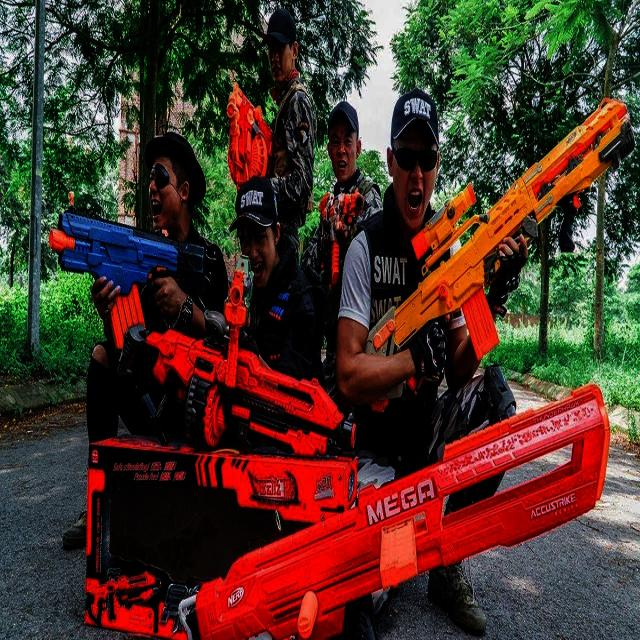Nerf gun: (180, 389, 611, 639), (358, 92, 639, 415), (110, 322, 358, 464), (44, 181, 215, 359), (222, 73, 278, 194), (315, 180, 369, 288), (217, 244, 255, 396)
